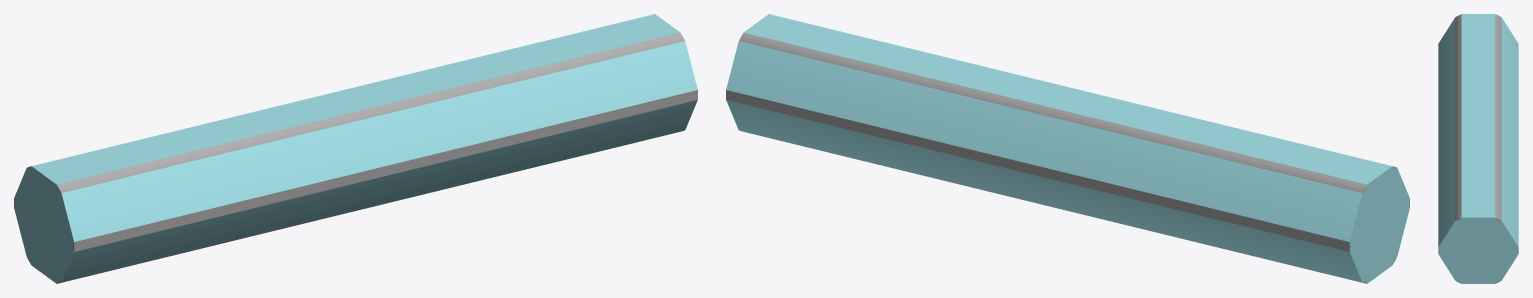
Rendered from ConvayerBeltLight.fbx.
3 renders of one model, left to right at view 1: azimuth 30°, elevation 25°; view 2: azimuth 150°, elevation 25°; view 3: azimuth 270°, elevation 25°, orthographic. The views are drawn at different scales.
Visible parts, largest first — view 1: Converyer_light; view 2: Converyer_light; view 3: Converyer_light.
Boxes of the visible parts, box(x1,y1,x2,y2) form: Converyer_light: box(14, 14, 697, 283); Converyer_light: box(726, 14, 1409, 283); Converyer_light: box(1438, 14, 1518, 283).
Bounding box in the file's own units: 57.25 × 8.71 × 9.55.
